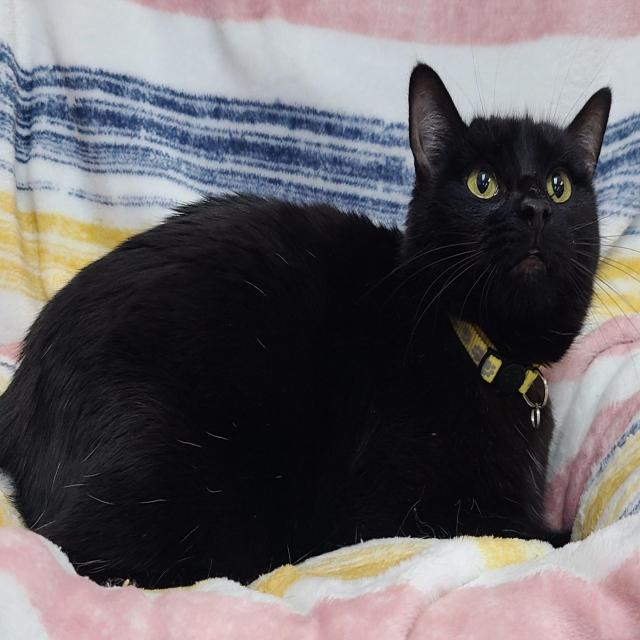American Bobtail: (0, 57, 613, 587)
